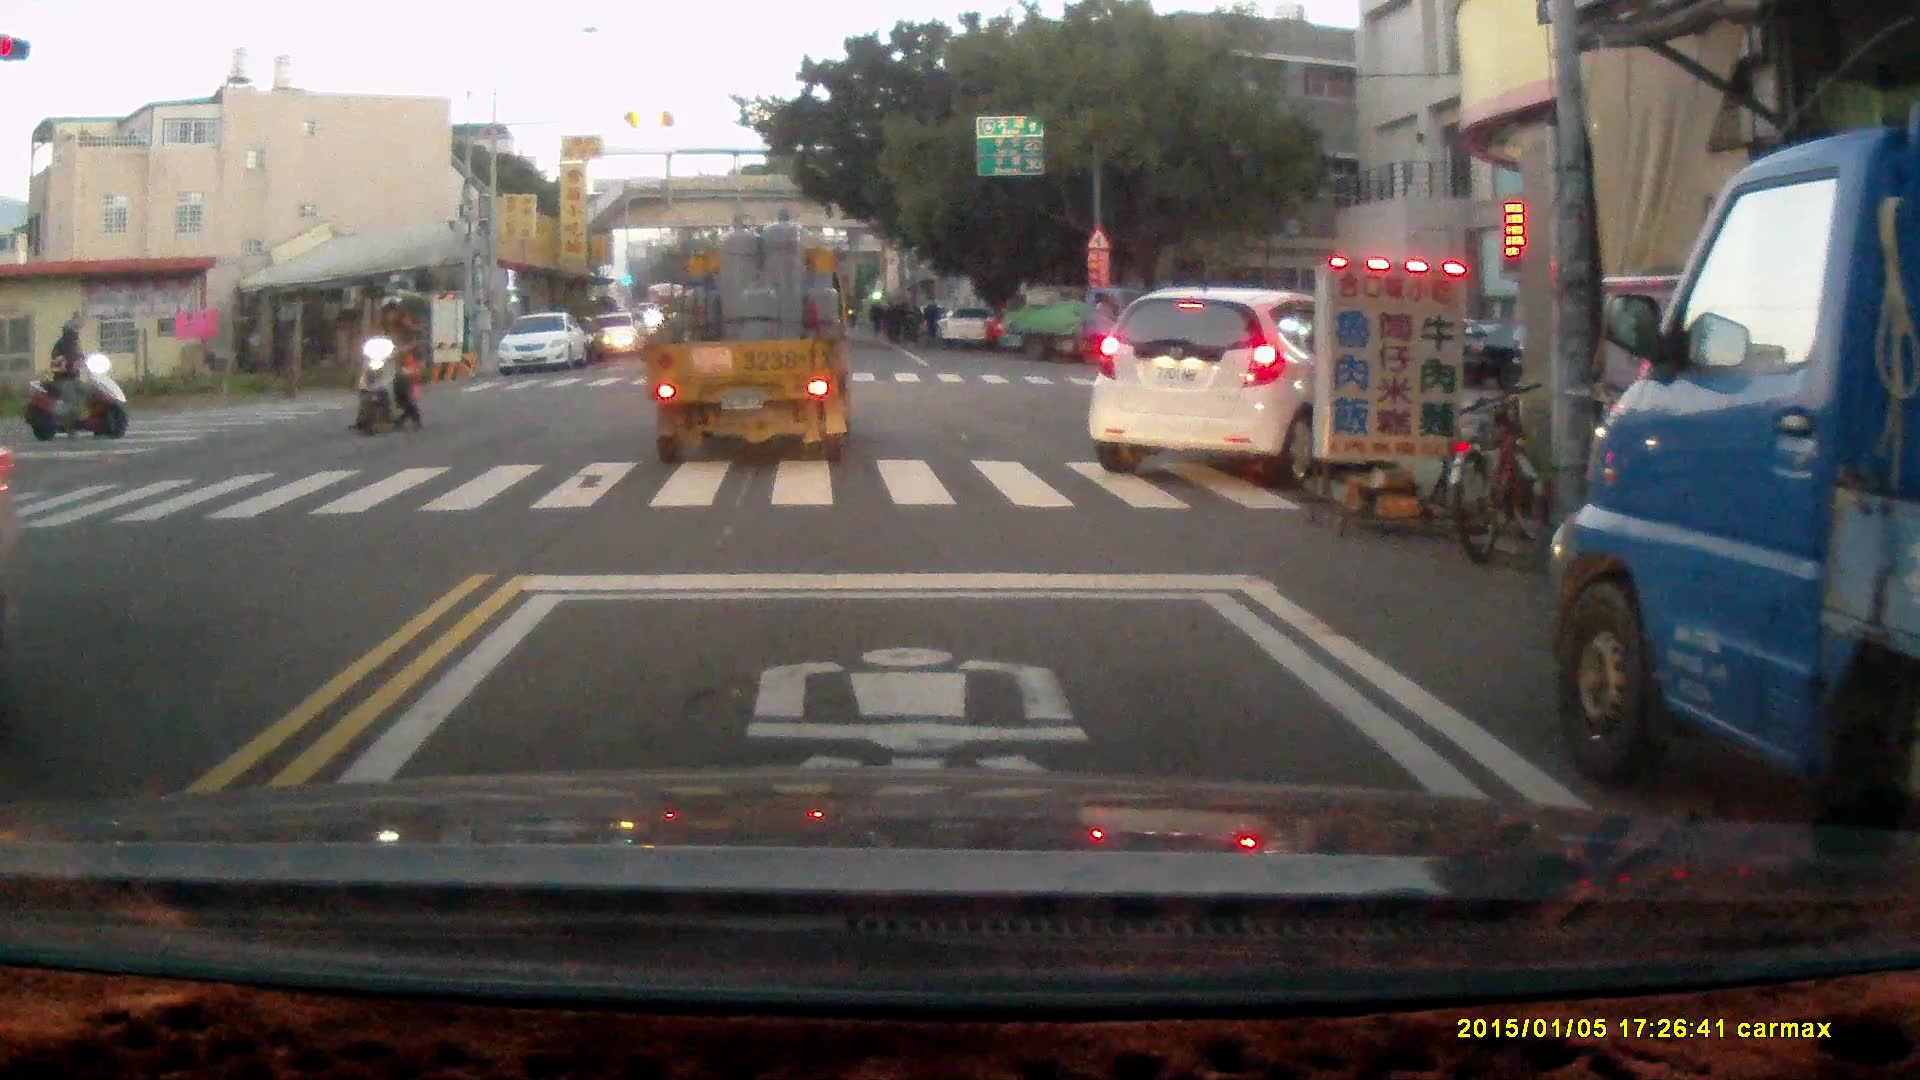rider: (21, 317, 126, 439), (350, 296, 422, 438)
vehicle: (1557, 132, 1920, 834), (1089, 289, 1382, 469), (644, 242, 852, 464), (1002, 284, 1170, 367), (501, 312, 588, 379), (592, 311, 642, 360)
